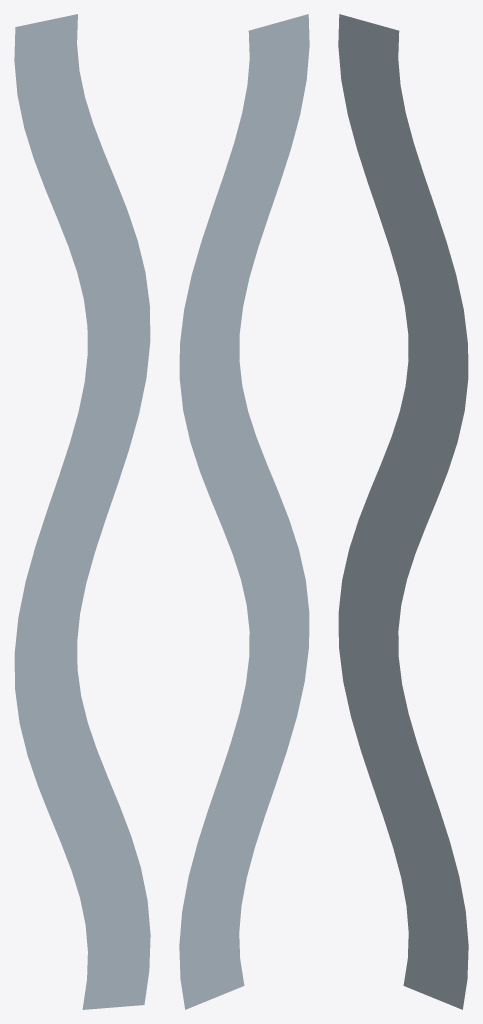
Rendered from Zhongli_PlanetBefall_MeteorDescendingTail1.fbx.
3 renders of one model, left to right at view 1: azimuth 30°, elevation 25°; view 2: azimuth 210°, elevation 25°; view 3: azimuth 330°, elevation 25°, orthographic. The views are drawn at different scales.
Visible parts, largest first — view 1: PART_MeteorDescendingTail1; view 2: PART_MeteorDescendingTail1; view 3: PART_MeteorDescendingTail1.
Part boxes in pixels (<box>): PART_MeteorDescendingTail1: <box>14,14,150,1009</box>; PART_MeteorDescendingTail1: <box>179,14,309,1009</box>; PART_MeteorDescendingTail1: <box>338,14,468,1009</box>.
Bounding box in the file's own units: 36.94 × 262 × 4.26e-05.
